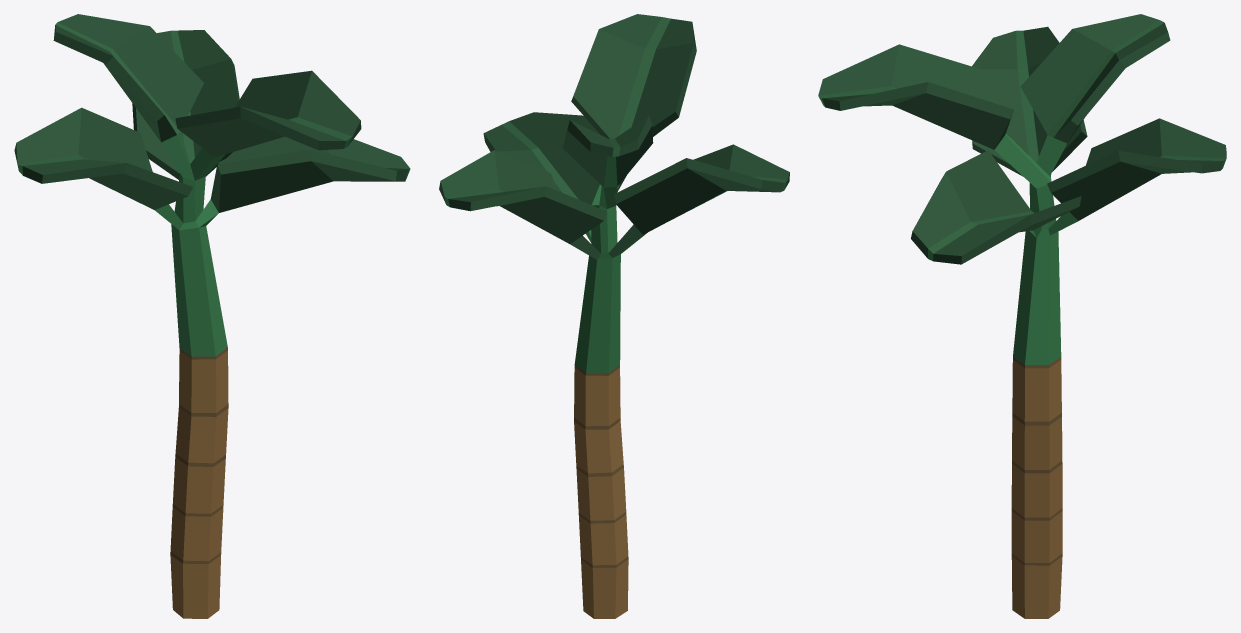
Rendered from ArecaPalm.fbx.
3 renders of one model, left to right at view 1: azimuth 30°, elevation 25°; view 2: azimuth 150°, elevation 25°; view 3: azimuth 270°, elevation 25°, orthographic. The views are drawn at different scales.
Parts seen in each view (by area): view 1: ArecaPalm; view 2: ArecaPalm; view 3: ArecaPalm.
Boxes of the visible parts, box(x1,y1,x2,y2) form: ArecaPalm: box(14, 14, 410, 618); ArecaPalm: box(439, 14, 789, 618); ArecaPalm: box(818, 14, 1226, 618).
Size of the model in its own units: 197 by 302 by 200.
